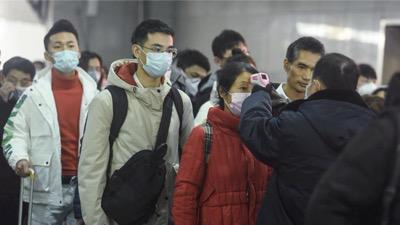with_mask: (141, 43, 175, 80), (227, 78, 256, 119), (48, 40, 80, 74), (5, 75, 32, 104), (183, 71, 207, 97), (84, 62, 103, 86), (357, 78, 378, 98)
without_mask: (289, 61, 316, 95)
